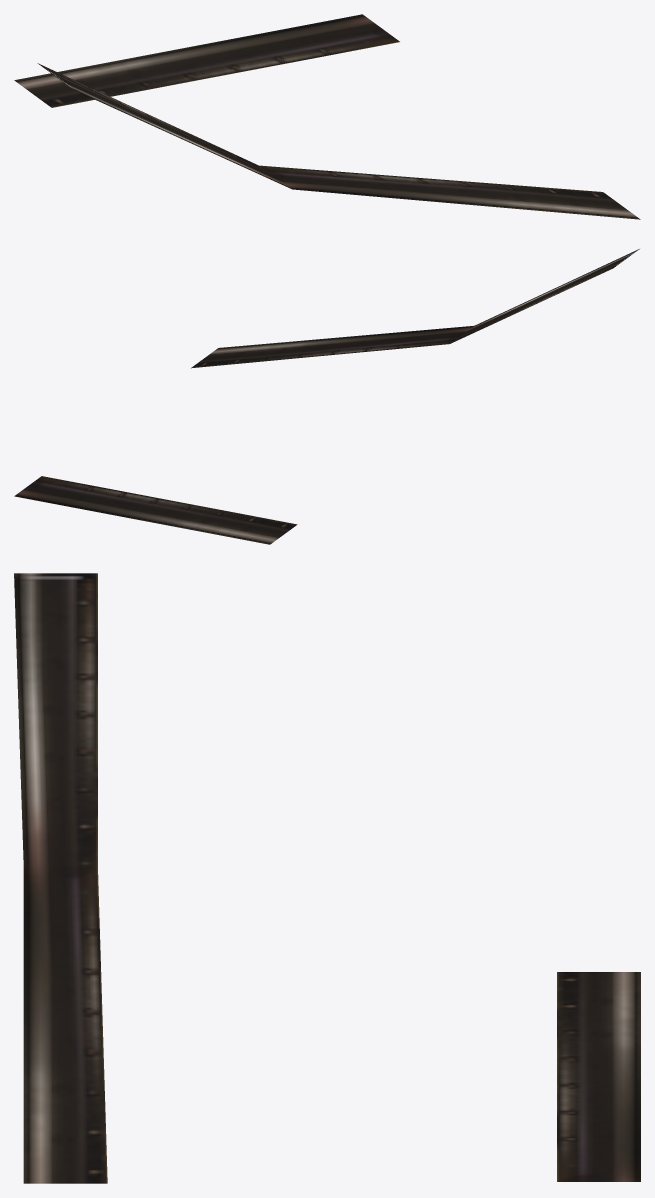
3 renders of one model, top to bottom at view 1: azimuth 30°, elevation 25°; view 2: azimuth 150°, elevation 25°; view 3: azimuth 270°, elevation 25°, orthographic. The views are drawn at different scales.
Parts seen in each view (by area): view 1: Plane03; view 2: Plane03; view 3: Plane03.
Part boxes in pixels (left/top/right/bottom): Plane03: left=14, top=14, right=640, bottom=219; Plane03: left=14, top=249, right=639, bottom=544; Plane03: left=14, top=573, right=640, bottom=1183.
Bounding box in the file's own units: 462 × 210 × 396.
Materials: 1 (1 with a texture image).
